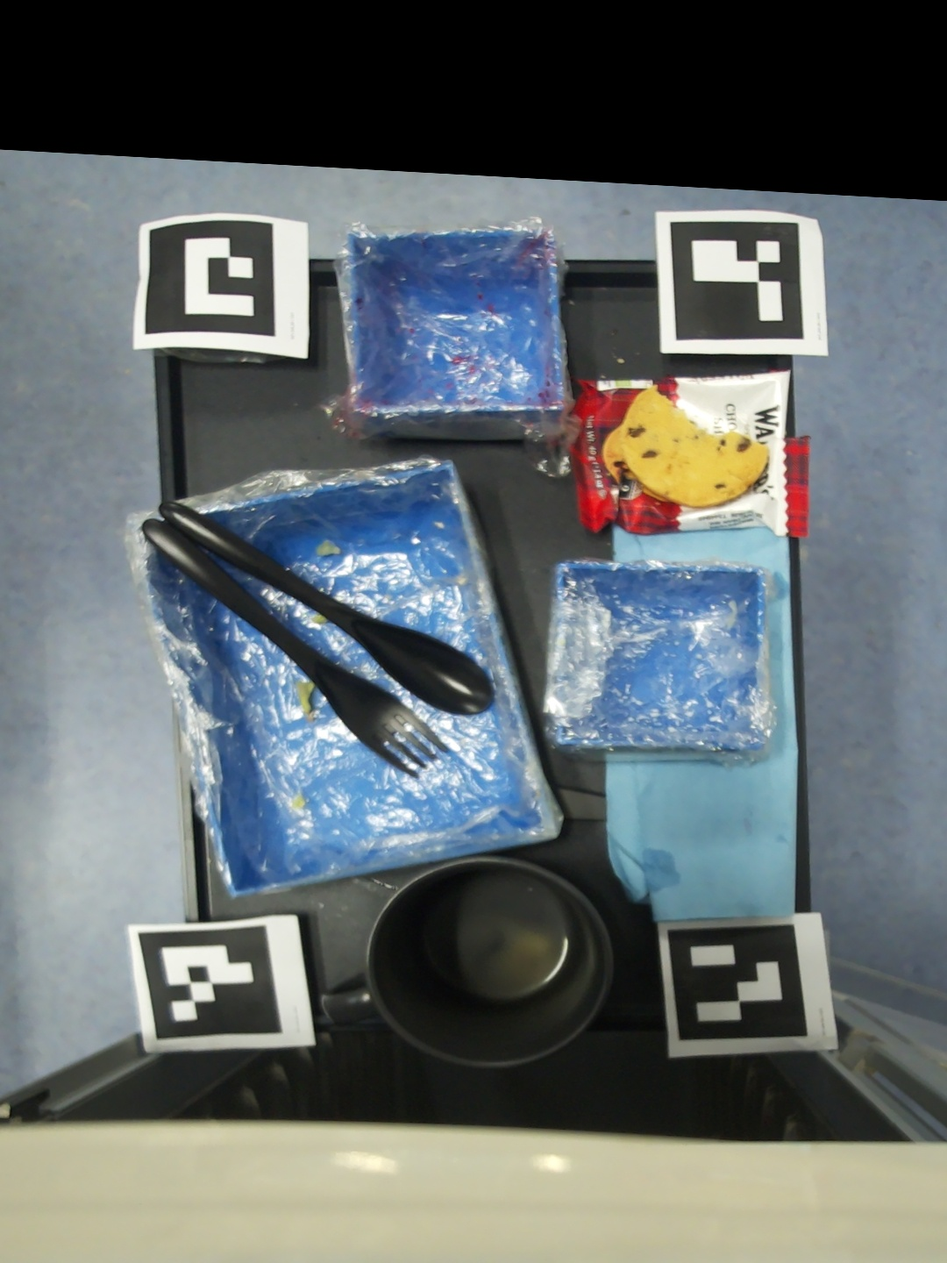coffee_cup: (320, 857, 611, 1069)
cookie: (569, 368, 811, 537)
wrap_half_1: (297, 681, 315, 713), (317, 540, 342, 556), (311, 614, 330, 624), (293, 795, 306, 808)
